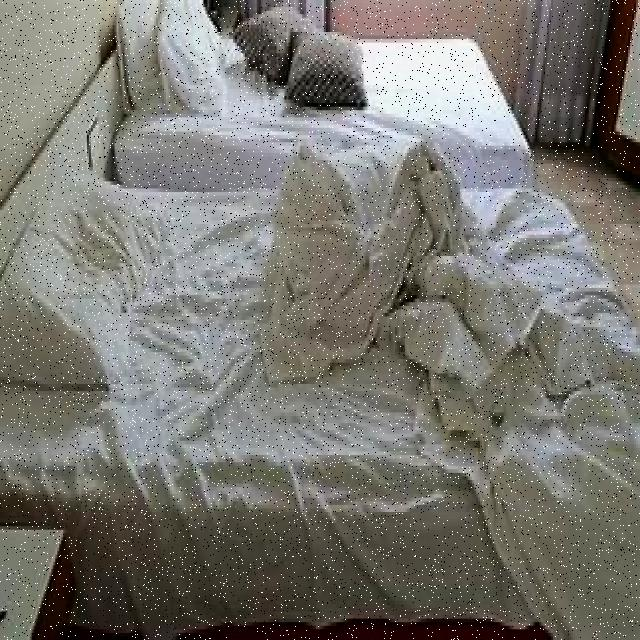bed: (34, 138, 617, 618), (118, 10, 515, 155)
